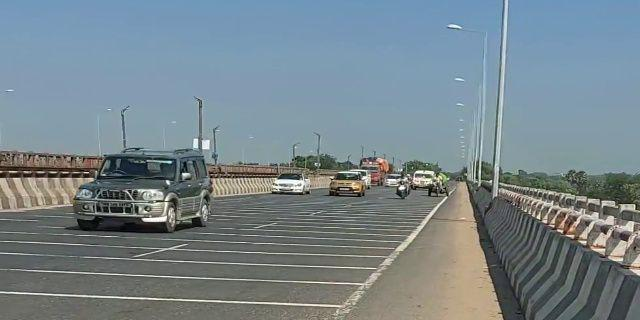Car: (70, 143, 213, 236), (326, 171, 371, 201), (268, 170, 314, 198), (415, 171, 434, 192)
Motorbike: (393, 166, 411, 201)
